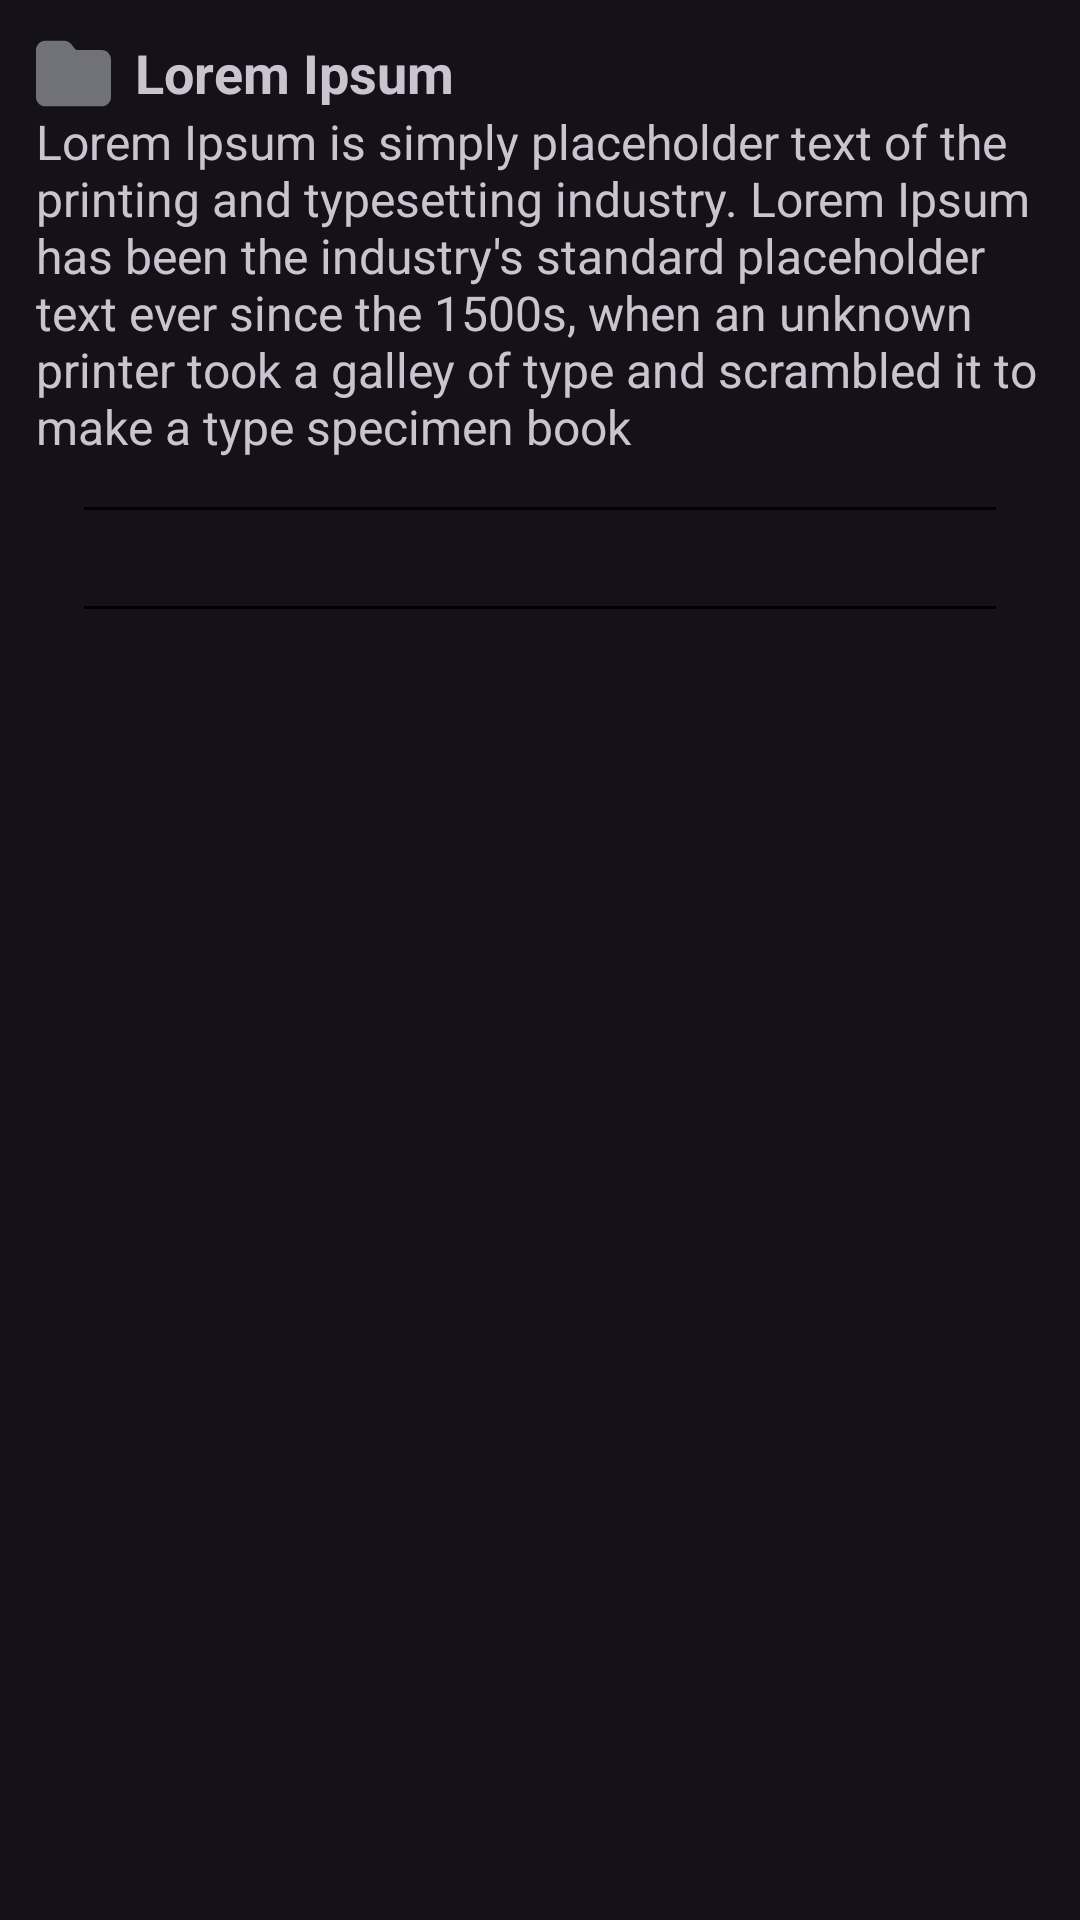

Locate icon controls on the screen. Image size 1080px x 1920px, boxes as BBox(x1, y1, x2, y2).
forum image icon (folder): BBox(36, 41, 111, 106)
